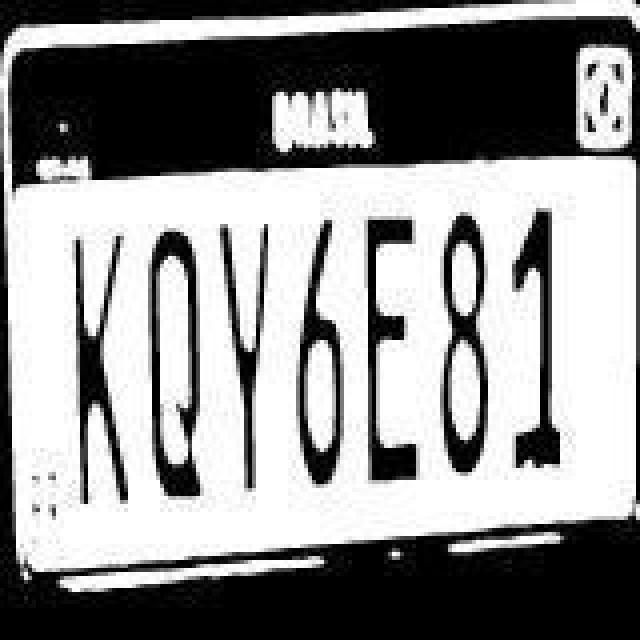1: (502, 206, 570, 482)
6: (288, 214, 352, 490)
8: (434, 204, 494, 484)
E: (360, 212, 424, 492)
K: (68, 226, 132, 510)
Q: (142, 226, 210, 510)
Y: (214, 216, 274, 496)
